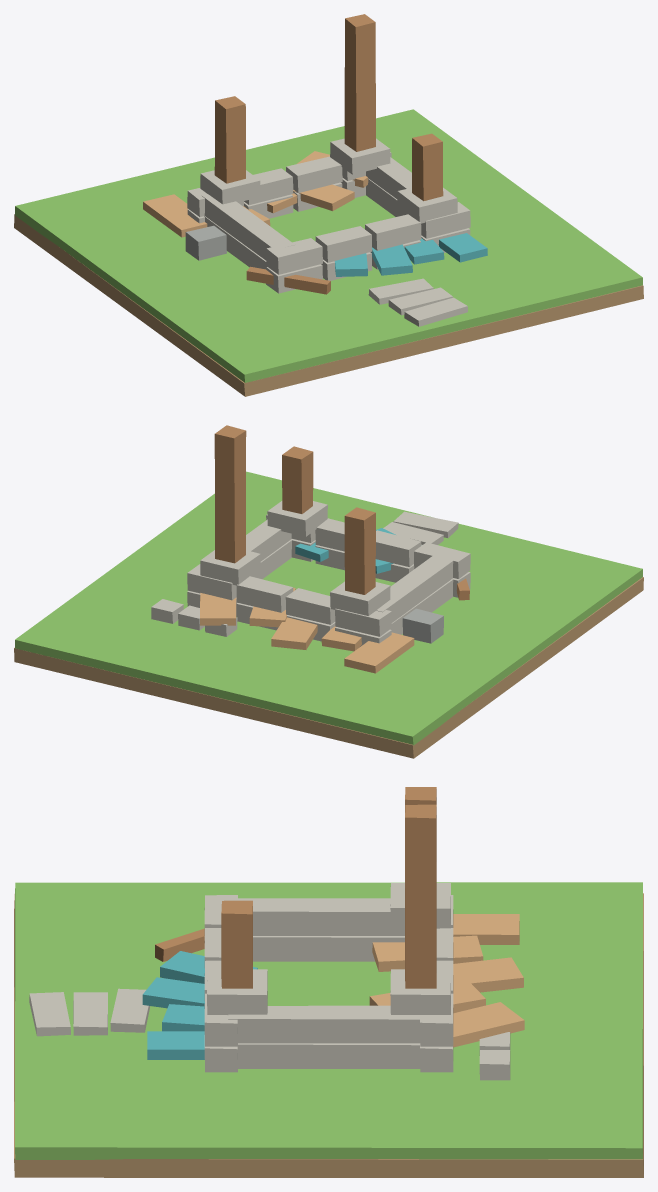
The model's file is tower_l01_ruined_LOD2.glb.
The picture shows the model from 3 angles, top to bottom: view 1: azimuth 30°, elevation 25°; view 2: azimuth 150°, elevation 25°; view 3: azimuth 270°, elevation 25°; orthographic projection. The views are drawn at different scales.
Parts seen in each view (by area): view 1: tower_l01_grass_tile_tower_l01_ruined_LOD2_tmp, tower_l01_earth_tile_tower_l01_ruined_LOD2_tmp, snapped_upright_0.58_0.52_tower_l01_ruined_LOD2_tmp, snapped_upright_-0.58_0.52_tower_l01_ruined_LOD2_tmp, ruin_stone_return_1_-0.72_tower_l01_ruined_LOD2_tmp, snapped_upright_0.58_-0.52_tower_l01_ruined_LOD2_tmp, ruin_stone_course_1_-1_0_tower_l01_ruined_LOD2_tmp, ruin_stone_course_1_-1_1_tower_l01_ruined_LOD2_tmp, ruin_stone_course_1_-1_2_tower_l01_ruined_LOD2_tmp, ruin_stone_course_1_1_2_tower_l01_ruined_LOD2_tmp, collapsed_deck_0_tower_l01_ruined_LOD2_tmp, foot_remnant_0.58_0.52_tower_l01_ruined_LOD2_tmp (+18 smaller); view 2: tower_l01_grass_tile_tower_l01_ruined_LOD2_tmp, tower_l01_earth_tile_tower_l01_ruined_LOD2_tmp, snapped_upright_0.58_0.52_tower_l01_ruined_LOD2_tmp, snapped_upright_-0.58_0.52_tower_l01_ruined_LOD2_tmp, ruin_stone_return_1_-0.72_tower_l01_ruined_LOD2_tmp, snapped_upright_0.58_-0.52_tower_l01_ruined_LOD2_tmp, collapsed_deck_0_tower_l01_ruined_LOD2_tmp, ruin_stone_course_1_1_2_tower_l01_ruined_LOD2_tmp, foot_remnant_0.58_-0.52_tower_l01_ruined_LOD2_tmp, foot_remnant_0.58_0.52_tower_l01_ruined_LOD2_tmp, foot_remnant_-0.58_0.52_tower_l01_ruined_LOD2_tmp, ruin_stone_course_1_1_1_tower_l01_ruined_LOD2_tmp (+16 smaller); view 3: tower_l01_grass_tile_tower_l01_ruined_LOD2_tmp, tower_l01_earth_tile_tower_l01_ruined_LOD2_tmp, ruin_stone_return_1_0.72_tower_l01_ruined_LOD2_tmp, snapped_upright_0.58_0.52_tower_l01_ruined_LOD2_tmp, ruin_stone_return_1_-0.72_tower_l01_ruined_LOD2_tmp, ruin_stone_return_0_0.72_tower_l01_ruined_LOD2_tmp, ruin_stone_return_0_-0.72_tower_l01_ruined_LOD2_tmp, snapped_upright_0.58_-0.52_tower_l01_ruined_LOD2_tmp, foot_remnant_0.58_0.52_tower_l01_ruined_LOD2_tmp, foot_remnant_0.58_-0.52_tower_l01_ruined_LOD2_tmp, collapsed_deck_4_tower_l01_ruined_LOD2_tmp, collapsed_deck_2_tower_l01_ruined_LOD2_tmp (+21 smaller).
Part boxes in pixels (box(x1,y1,x2,y2)): tower_l01_grass_tile_tower_l01_ruined_LOD2_tmp: box(15, 109, 642, 382); tower_l01_earth_tile_tower_l01_ruined_LOD2_tmp: box(14, 214, 643, 396); snapped_upright_0.58_0.52_tower_l01_ruined_LOD2_tmp: box(344, 14, 375, 151); snapped_upright_-0.58_0.52_tower_l01_ruined_LOD2_tmp: box(214, 96, 245, 183); ruin_stone_return_1_-0.72_tower_l01_ruined_LOD2_tmp: box(201, 194, 294, 260); snapped_upright_0.58_-0.52_tower_l01_ruined_LOD2_tmp: box(412, 133, 443, 201); ruin_stone_course_1_-1_0_tower_l01_ruined_LOD2_tmp: box(266, 238, 322, 274); ruin_stone_course_1_-1_1_tower_l01_ruined_LOD2_tmp: box(315, 226, 372, 262); ruin_stone_course_1_-1_2_tower_l01_ruined_LOD2_tmp: box(365, 214, 421, 250); ruin_stone_course_1_1_2_tower_l01_ruined_LOD2_tmp: box(286, 156, 342, 192); collapsed_deck_0_tower_l01_ruined_LOD2_tmp: box(143, 194, 207, 237); foot_remnant_0.58_0.52_tower_l01_ruined_LOD2_tmp: box(330, 138, 390, 174); tower_l01_grass_tile_tower_l01_ruined_LOD2_tmp: box(15, 471, 642, 745); tower_l01_earth_tile_tower_l01_ruined_LOD2_tmp: box(14, 577, 643, 758); snapped_upright_0.58_0.52_tower_l01_ruined_LOD2_tmp: box(214, 425, 246, 563); snapped_upright_-0.58_0.52_tower_l01_ruined_LOD2_tmp: box(344, 507, 375, 594); ruin_stone_return_1_-0.72_tower_l01_ruined_LOD2_tmp: box(376, 553, 453, 622); snapped_upright_0.58_-0.52_tower_l01_ruined_LOD2_tmp: box(282, 446, 313, 513); collapsed_deck_0_tower_l01_ruined_LOD2_tmp: box(344, 632, 414, 673); ruin_stone_course_1_1_2_tower_l01_ruined_LOD2_tmp: box(236, 576, 293, 612); foot_remnant_0.58_-0.52_tower_l01_ruined_LOD2_tmp: box(267, 501, 327, 536); foot_remnant_0.58_0.52_tower_l01_ruined_LOD2_tmp: box(200, 550, 260, 585); foot_remnant_-0.58_0.52_tower_l01_ruined_LOD2_tmp: box(330, 581, 390, 615); ruin_stone_course_1_1_1_tower_l01_ruined_LOD2_tmp: box(285, 588, 335, 624); tower_l01_grass_tile_tower_l01_ruined_LOD2_tmp: box(15, 882, 642, 1159); tower_l01_earth_tile_tower_l01_ruined_LOD2_tmp: box(14, 893, 643, 1177); ruin_stone_return_1_0.72_tower_l01_ruined_LOD2_tmp: box(228, 1005, 429, 1043); snapped_upright_0.58_0.52_tower_l01_ruined_LOD2_tmp: box(405, 804, 436, 988); ruin_stone_return_1_-0.72_tower_l01_ruined_LOD2_tmp: box(235, 898, 404, 935); ruin_stone_return_0_0.72_tower_l01_ruined_LOD2_tmp: box(237, 1043, 420, 1068); ruin_stone_return_0_-0.72_tower_l01_ruined_LOD2_tmp: box(253, 936, 404, 961); snapped_upright_0.58_-0.52_tower_l01_ruined_LOD2_tmp: box(221, 900, 252, 988); foot_remnant_0.58_0.52_tower_l01_ruined_LOD2_tmp: box(390, 969, 450, 1014); foot_remnant_0.58_-0.52_tower_l01_ruined_LOD2_tmp: box(207, 969, 267, 1014); collapsed_deck_4_tower_l01_ruined_LOD2_tmp: box(453, 1002, 524, 1047); collapsed_deck_2_tower_l01_ruined_LOD2_tmp: box(453, 957, 523, 992).
Size of the model in its own units: 3.57 by 1.73 by 3.57.
